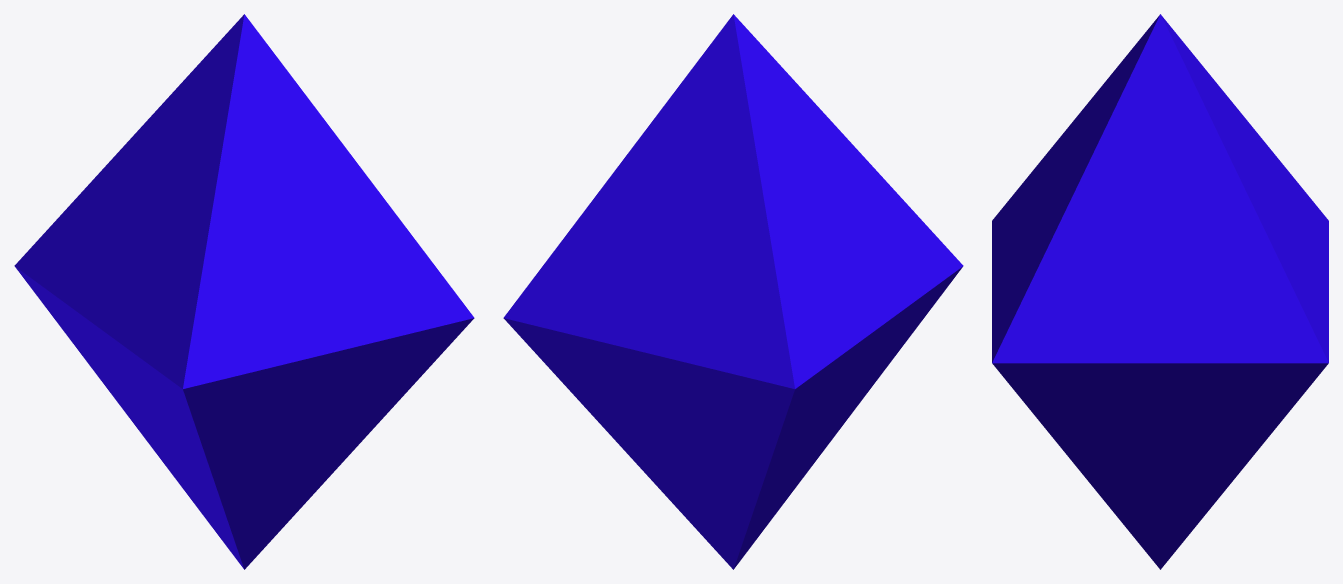
File: Blue.gltf
The picture shows the model from 3 angles, left to right: view 1: azimuth 30°, elevation 25°; view 2: azimuth 150°, elevation 25°; view 3: azimuth 270°, elevation 25°; orthographic projection.
Parts seen in each view (by area): view 1: Cube; view 2: Cube; view 3: Cube.
Boxes of the visible parts, box(x1,y1,x2,y2) form: Cube: box(14, 14, 474, 569); Cube: box(503, 14, 963, 569); Cube: box(992, 14, 1328, 569).
Bounding box in the file's own units: 0.8179 × 1.49 × 0.8179.
1 material, 1 textured.
